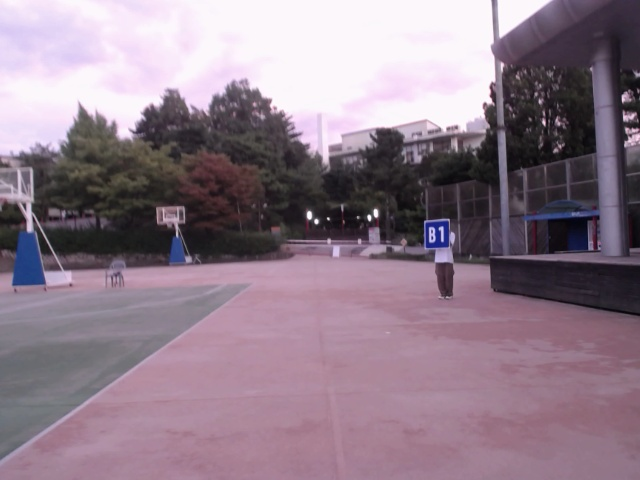delivery_b1: (424, 219, 450, 249)
